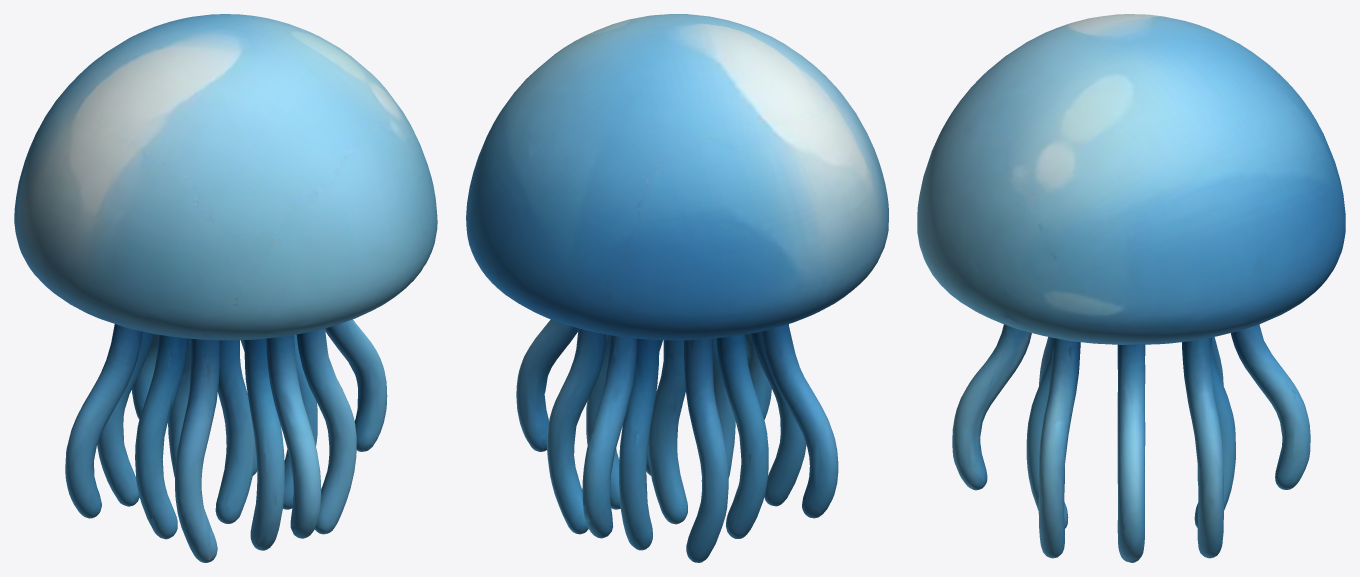
File: jellyfish_pbr.glb
3 renders of one model, left to right at view 1: azimuth 30°, elevation 25°; view 2: azimuth 150°, elevation 25°; view 3: azimuth 270°, elevation 25°, orthographic.
Visible parts, largest first — view 1: model; view 2: model; view 3: model.
Part boxes in pixels (box(x1,y1,x2,y2)): model: box(14, 14, 437, 562); model: box(466, 14, 888, 562); model: box(917, 14, 1345, 562).
Bounding box in the file's own units: 1.34 × 1.72 × 1.34.
1 material, 1 textured.
